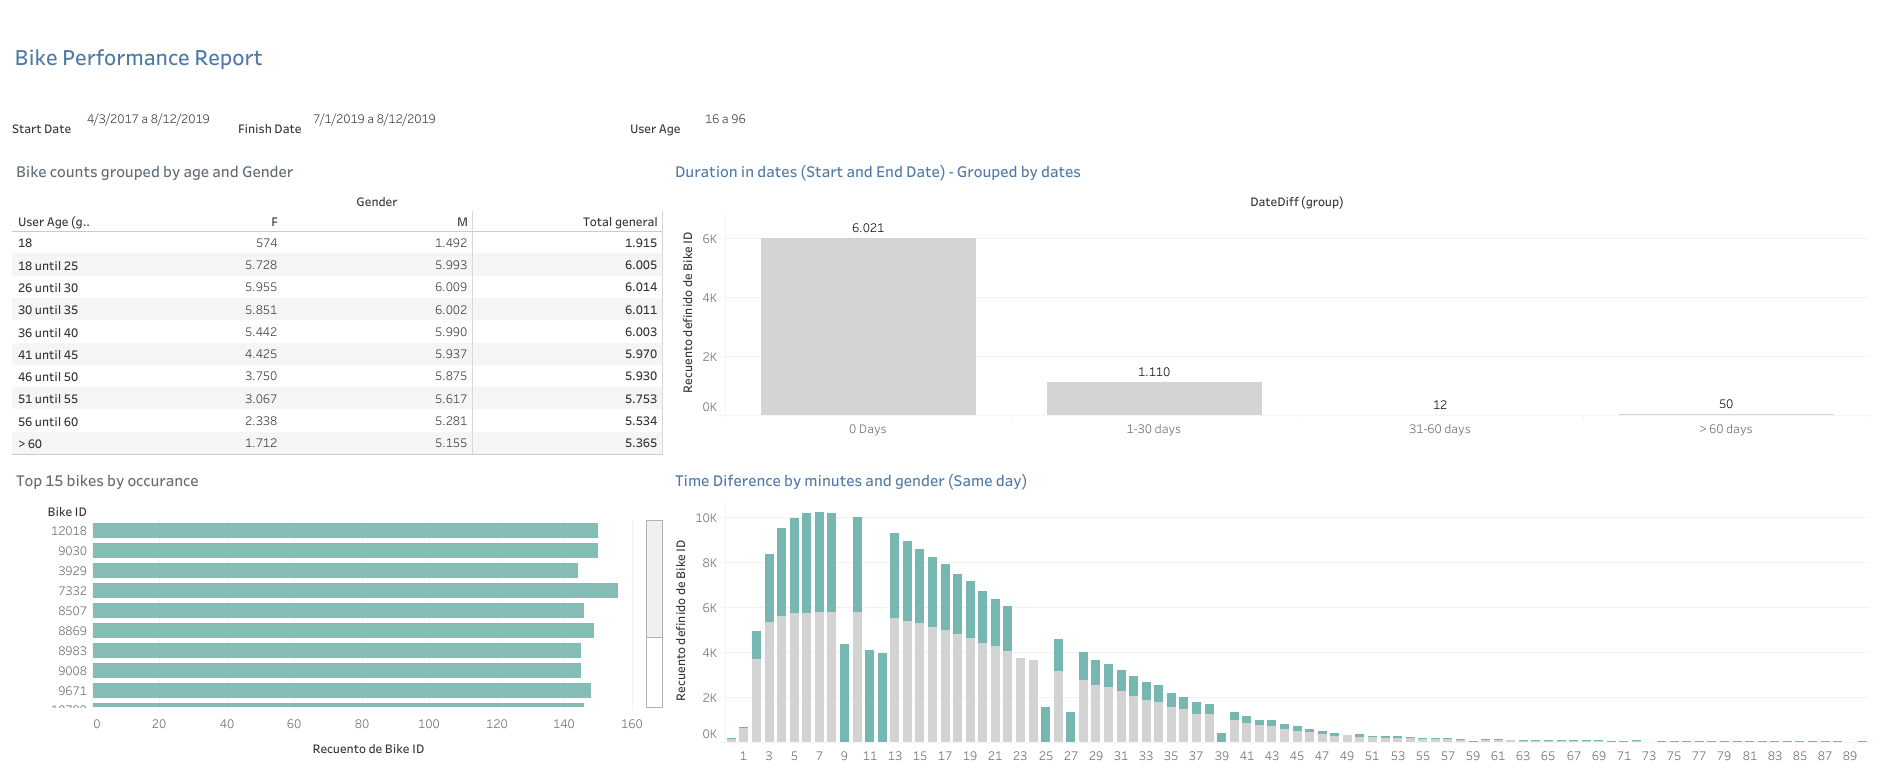

The dashboard page shown, as its layout file describes it:
{"tool":"tableau","page":{"name":"Bike dashbord","canvas":[1000,1000],"units":"permille","ordinal":0},"visuals":[{"type":"worksheet","box":[0,0,1000,1000]},{"type":"worksheet","param":"horz","box":[4.8,9.3,990.3,981.4]},{"type":"worksheet","box":[4.8,9.3,990.3,981.4]},{"type":"worksheet","box":[4.8,9.3,990.3,125.4]},{"type":"worksheet","param":"vert","box":[4.8,134.7,120.1,58.1]},{"type":"worksheet","title":"FInished Same day - minutes","mark":"Automatic","rows":["BikeID"],"cols":["Calculation_384494822532886533"],"param":"[federated.0y7q40n101nc8z17hn2mt0wd03xu].[none:StartDate:qk]","box":[4.8,134.7,120.1,58.1]},{"type":"worksheet","title":"FInished Same day - minutes","mark":"Automatic","rows":["BikeID"],"cols":["Calculation_384494822532886533"],"param":"[federated.0y7q40n101nc8z17hn2mt0wd03xu].[none:FinishDate:qk]","box":[124.9,134.7,208.2,58.1]},{"type":"worksheet","title":"FInished Same day - minutes","mark":"Automatic","rows":["BikeID"],"cols":["Calculation_384494822532886533"],"param":"[federated.0y7q40n101nc8z17hn2mt0wd03xu].[none:UserAge:qk]","box":[333.1,134.7,96.6,58.1]},{"type":"worksheet","box":[429.7,134.7,565.5,58.1]},{"type":"worksheet","param":"horz","box":[4.8,192.8,990.3,797.9]},{"type":"worksheet","box":[4.8,192.8,990.3,797.9]},{"type":"worksheet","title":"ByAge","mark":"Automatic","cols":["Gender"],"box":[4.8,192.8,350,399]},{"type":"worksheet","title":"Sheet 2","mark":"Automatic","rows":["BikeID"],"box":[354.8,192.8,640.3,399]},{"type":"worksheet","title":"Tob Bikes","mark":"Automatic","rows":["BikeID"],"cols":["BikeID"],"box":[4.8,591.8,350,398.9]},{"type":"worksheet","title":"FInished Same day - minutes","mark":"Automatic","rows":["BikeID"],"cols":["Calculation_384494822532886533"],"box":[354.8,591.8,640.3,398.9]}]}

Visuals, with their boxes on the dashboard's canvas, which has no fixed pixel size, in thousandths of its width and height (x1, y1, x2, y2). These are canvas units, not pixel positions in the 1880x775 screenshot, which may show the page scaled, cropped or inside an application window:
worksheet: Rect(0, 0, 1000, 1000)
worksheet: Rect(5, 9, 995, 991)
worksheet: Rect(5, 9, 995, 991)
worksheet: Rect(5, 9, 995, 135)
worksheet: Rect(5, 135, 125, 193)
"FInished Same day - minutes" worksheet: Rect(5, 135, 125, 193)
"FInished Same day - minutes" worksheet: Rect(125, 135, 333, 193)
"FInished Same day - minutes" worksheet: Rect(333, 135, 430, 193)
worksheet: Rect(430, 135, 995, 193)
worksheet: Rect(5, 193, 995, 991)
worksheet: Rect(5, 193, 995, 991)
"ByAge" worksheet: Rect(5, 193, 355, 592)
"Sheet 2" worksheet: Rect(355, 193, 995, 592)
"Tob Bikes" worksheet: Rect(5, 592, 355, 991)
"FInished Same day - minutes" worksheet: Rect(355, 592, 995, 991)
